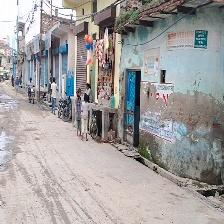Bike: (25, 76, 37, 105)
Drain: (109, 140, 223, 199)
Human: (47, 75, 58, 118), (73, 87, 82, 139), (83, 94, 90, 141)
Road: (0, 80, 223, 223)
objects: (103, 109, 119, 141)
